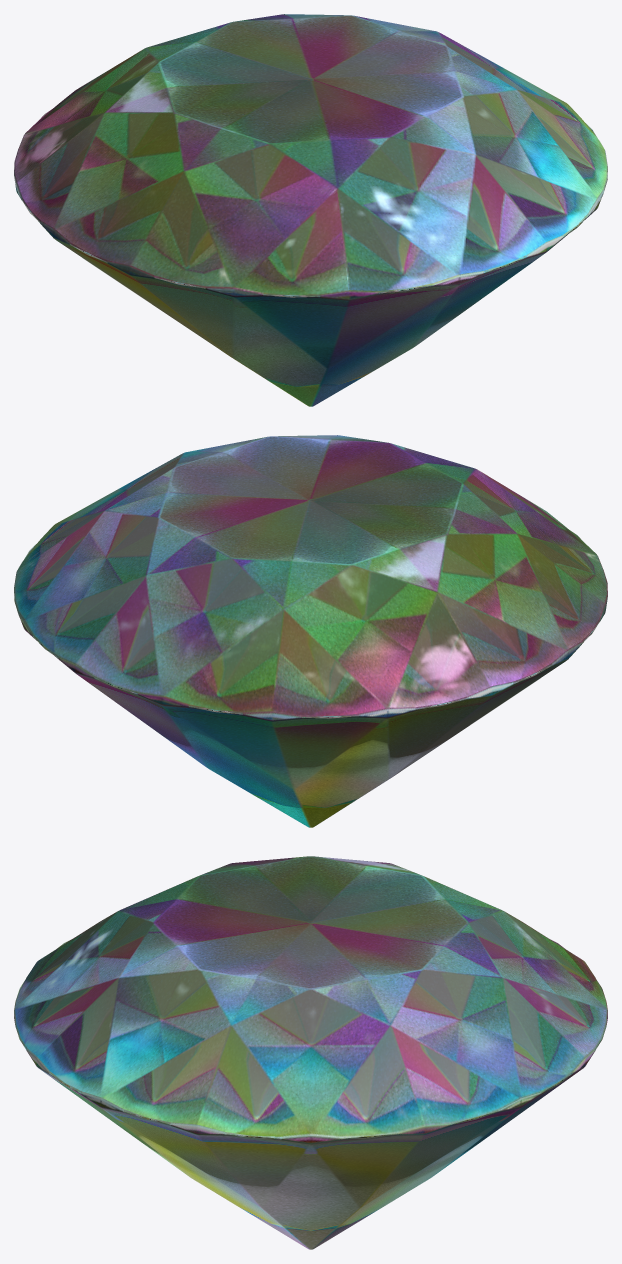
The model's file is pure-diamond.glb.
The picture shows the model from 3 angles, top to bottom: view 1: azimuth 30°, elevation 25°; view 2: azimuth 150°, elevation 25°; view 3: azimuth 270°, elevation 25°; orthographic projection.
Parts seen in each view (by area): view 1: dobj; view 2: dobj; view 3: dobj.
Boxes of the visible parts, left/top/right/bottom form: dobj: left=14, top=14, right=607, bottom=406; dobj: left=14, top=435, right=607, bottom=827; dobj: left=14, top=856, right=607, bottom=1249.
Bounding box in the file's own units: 3 × 1.82 × 3.
Materials: 1 (1 with a texture image).
